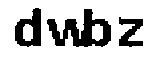b: (87, 5, 113, 51)
d: (9, 4, 43, 52)
w: (44, 13, 87, 52)
z: (115, 14, 149, 52)
